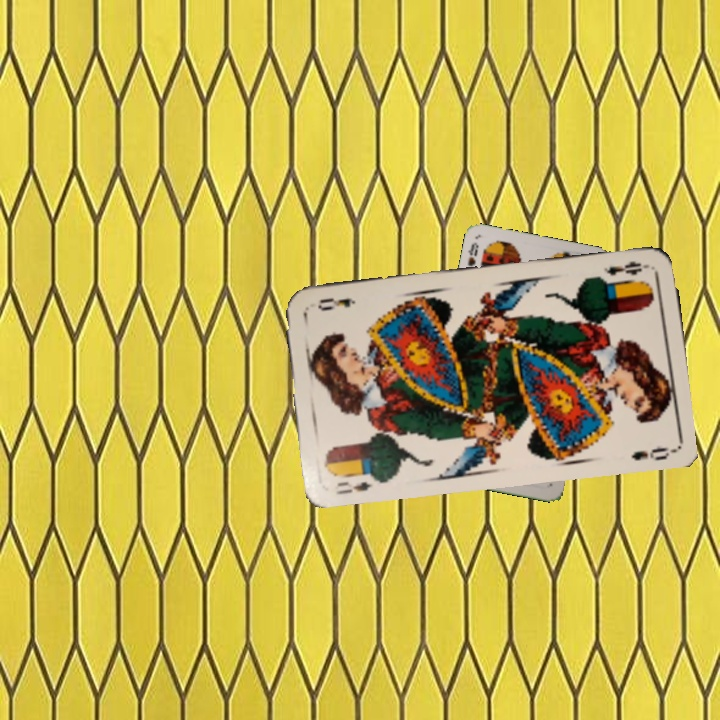EO: (600, 256, 652, 278), (332, 477, 375, 497)
S8: (464, 238, 482, 269)
